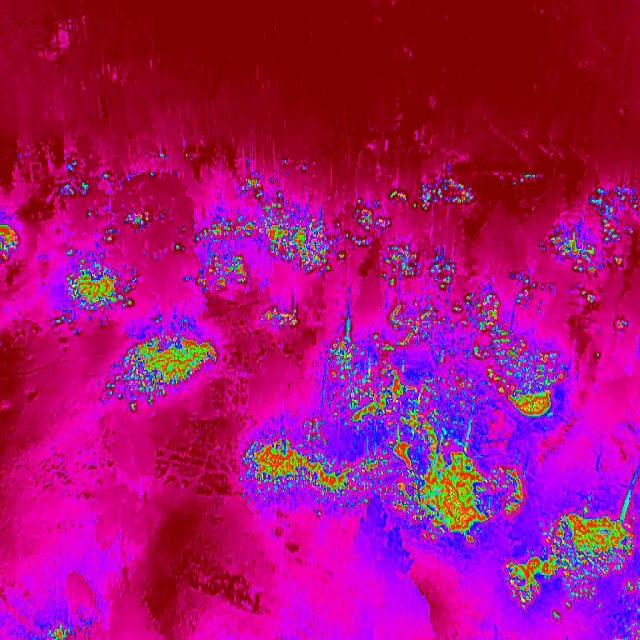fire: (190, 170, 337, 331), (384, 418, 526, 548), (422, 293, 568, 419), (503, 508, 640, 622), (536, 183, 640, 331), (242, 419, 384, 508), (378, 235, 464, 347), (104, 333, 217, 411), (325, 331, 422, 421), (61, 172, 157, 260), (51, 266, 136, 326), (336, 196, 388, 262), (390, 172, 475, 212), (0, 217, 18, 263), (46, 622, 72, 640)
